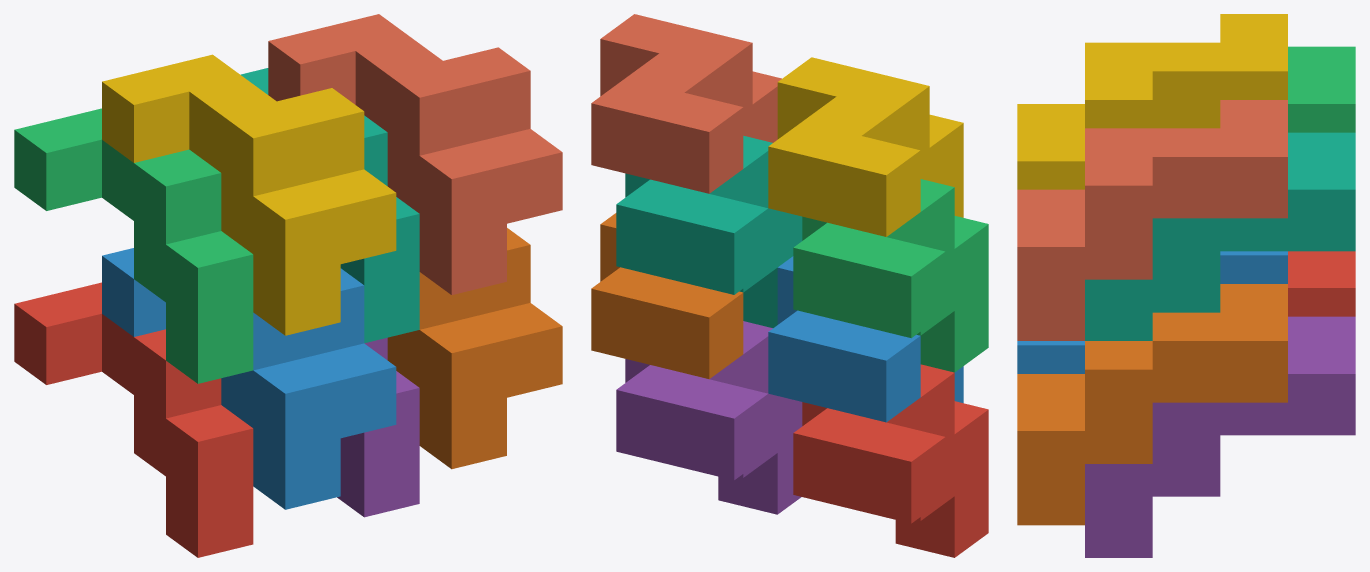
The model's file is tiling.obj.
3 views of the same model, side by side, from view 1: azimuth 30°, elevation 25°; view 2: azimuth 150°, elevation 25°; view 3: azimuth 270°, elevation 25° (orthographic). The views are drawn at different scales.
Visible parts, largest first — view 1: copy_1_domain_4, copy_1_domain_8, copy_1_domain_3, copy_1_domain_1, copy_1_domain_2, copy_1_domain_6, copy_1_domain_7, copy_1_domain_5; view 2: copy_1_domain_4, copy_1_domain_8, copy_1_domain_1, copy_1_domain_3, copy_1_domain_5, copy_1_domain_7, copy_1_domain_2, copy_1_domain_6; view 3: copy_1_domain_8, copy_1_domain_6, copy_1_domain_4, copy_1_domain_5, copy_1_domain_7, copy_1_domain_3, copy_1_domain_1, copy_1_domain_2.
Part boxes in pixels (x1,y1,x2,y2): copy_1_domain_4: (102,54,396,335); copy_1_domain_8: (268,14,562,294); copy_1_domain_3: (14,108,253,383); copy_1_domain_1: (14,282,253,557); copy_1_domain_2: (102,248,396,509); copy_1_domain_6: (387,228,562,469); copy_1_domain_7: (240,68,419,343); copy_1_domain_5: (337,337,419,517); copy_1_domain_4: (768,57,963,236); copy_1_domain_8: (591,14,781,193); copy_1_domain_1: (793,364,988,557); copy_1_domain_3: (793,179,988,372); copy_1_domain_5: (616,321,802,514); copy_1_domain_7: (616,135,802,327); copy_1_domain_2: (768,256,963,422); copy_1_domain_6: (591,213,743,379); copy_1_domain_8: (1017,100,1287,340); copy_1_domain_6: (1017,284,1287,525); copy_1_domain_4: (1017,14,1287,189); copy_1_domain_5: (1085,316,1355,557); copy_1_domain_7: (1085,132,1355,340); copy_1_domain_3: (1288,46,1355,132); copy_1_domain_1: (1288,251,1355,316); copy_1_domain_2: (1017,251,1287,373).
Bounding box in the file's own units: 7 × 7 × 5.
